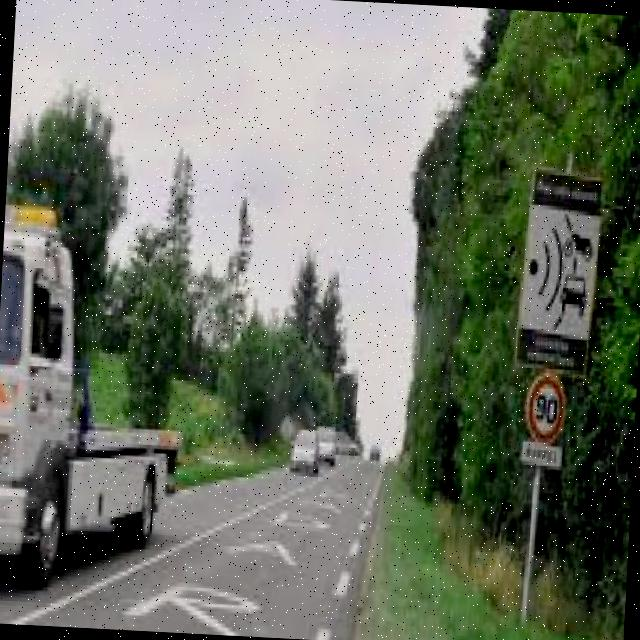Ograniczenie predkosci do 90: (522, 372, 568, 442)
